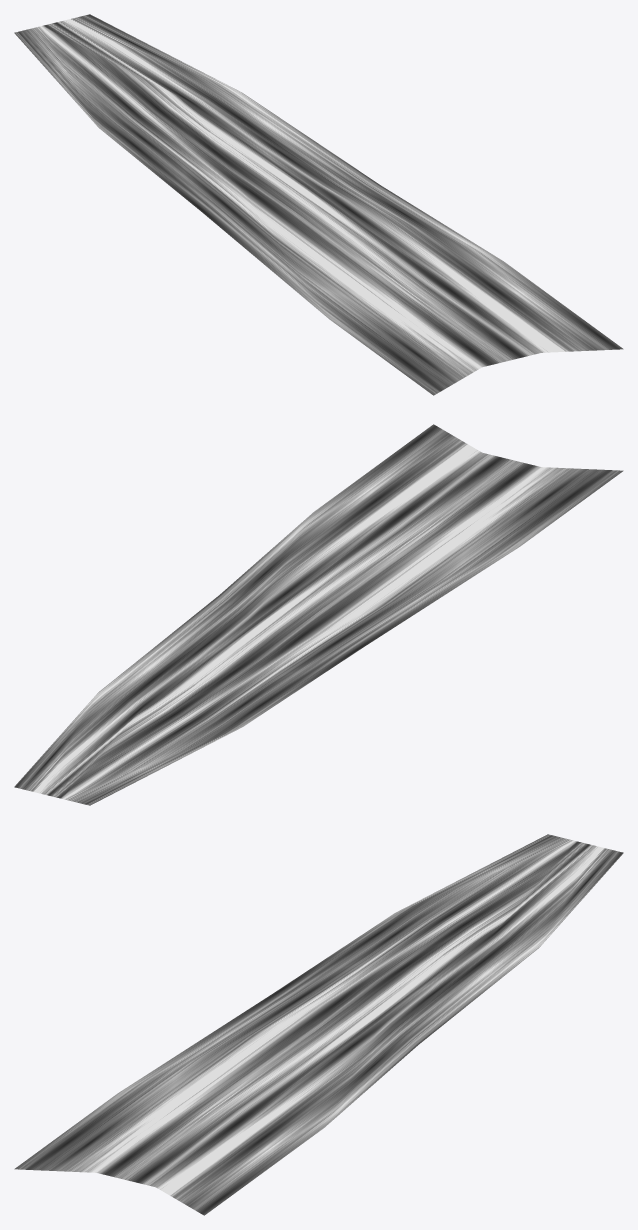
The model's file is PlayerAtk_3 vfxmodel.fbx.
3 renders of one model, top to bottom at view 1: azimuth 30°, elevation 25°; view 2: azimuth 150°, elevation 25°; view 3: azimuth 330°, elevation 25°, orthographic.
Parts seen in each view (by area): view 1: Slash3_mesh; view 2: Slash3_mesh; view 3: Slash3_mesh.
Part boxes in pixels (box(x1,y1,x2,y2)): Slash3_mesh: box(14, 14, 623, 395); Slash3_mesh: box(14, 424, 623, 805); Slash3_mesh: box(14, 834, 623, 1215).
Bounding box in the file's own units: 1.11 × 0 × 4.82.
